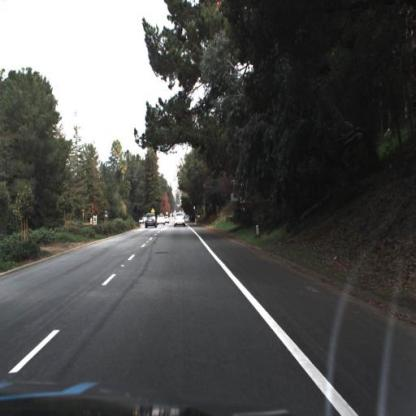car: (173, 209, 189, 230), (144, 211, 159, 233), (155, 211, 167, 230)
